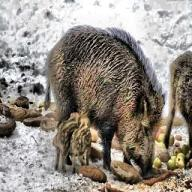boar: (44, 23, 166, 178), (163, 48, 191, 162)
